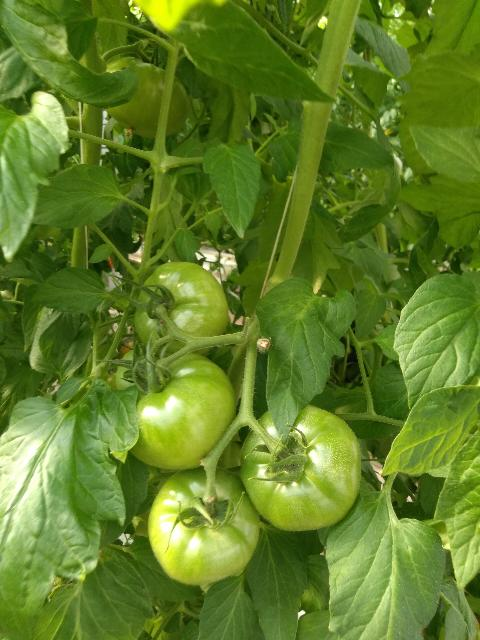b_green: (241, 402, 362, 532), (148, 465, 261, 587), (124, 353, 236, 470), (134, 261, 229, 359), (103, 57, 190, 139)
